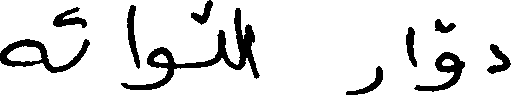ا: (124, 3, 141, 91), (242, 22, 258, 79), (405, 24, 417, 90)
ت: (76, 4, 89, 64)
د: (486, 41, 510, 73)
ر: (345, 64, 384, 93)
ل: (232, 5, 244, 70), (214, 28, 225, 66)
ه: (0, 36, 47, 70)
و: (434, 16, 462, 91), (145, 44, 175, 90)
